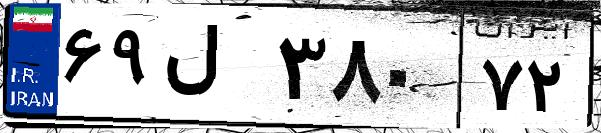0: (385, 28, 445, 110)
2: (525, 38, 570, 115)
3: (270, 28, 330, 110)
6: (57, 26, 110, 100)
7: (475, 38, 525, 113)
8: (330, 28, 385, 110)
9: (110, 28, 158, 98)
ل: (158, 20, 270, 120)
